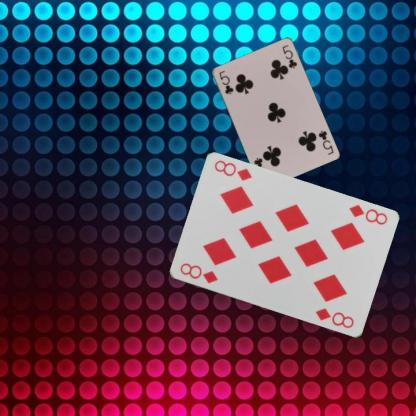5c: (216, 68, 235, 96), (316, 128, 334, 156)
8d: (177, 260, 219, 285), (346, 202, 388, 227)
